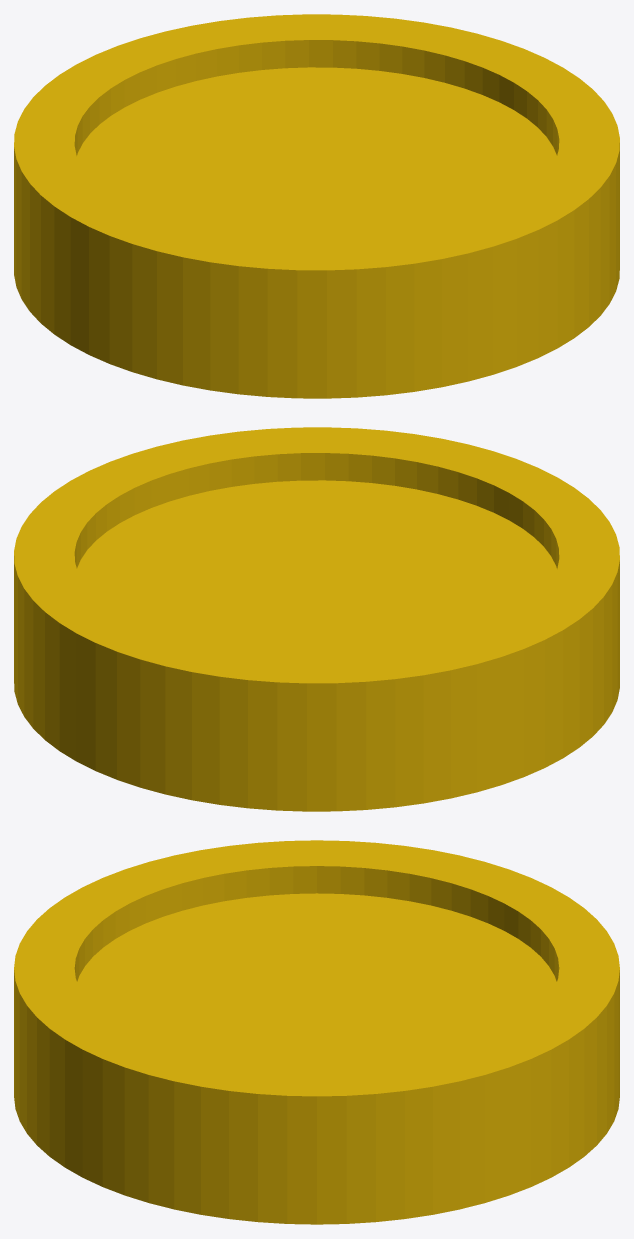
File: item1.fbx
3 renders of one model, top to bottom at view 1: azimuth 30°, elevation 25°; view 2: azimuth 150°, elevation 25°; view 3: azimuth 270°, elevation 25°, orthographic.
Parts seen in each view (by area): view 1: coin; view 2: coin; view 3: coin.
Boxes of the visible parts, bbox=[...] form: coin: bbox=[14, 14, 619, 398]; coin: bbox=[14, 427, 619, 811]; coin: bbox=[14, 840, 619, 1224].
Bounding box in the file's own units: 60 × 14 × 60.
